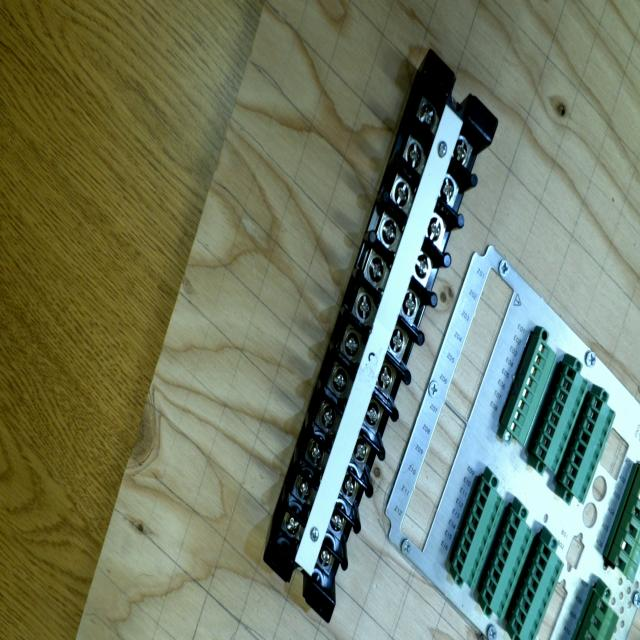Phillips_Block: (251, 49, 512, 625)
Terminal_2: (528, 363, 594, 476), (474, 509, 540, 622), (555, 393, 620, 505), (447, 478, 510, 590)
